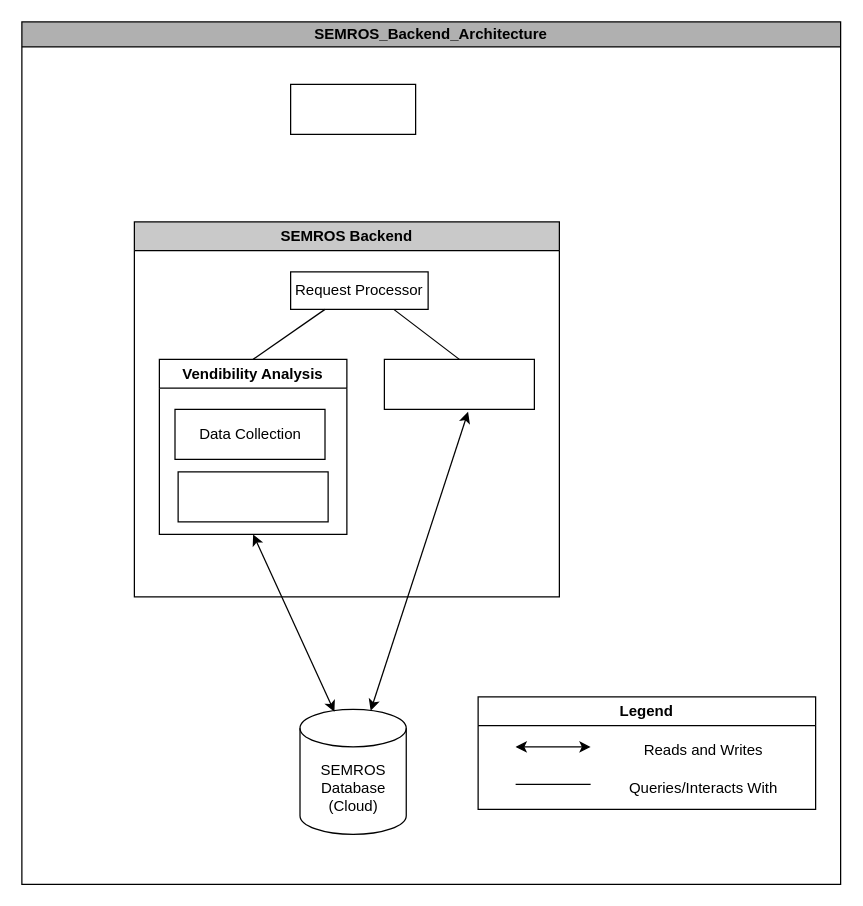
The diagram is 863 pixels wide and 906 high, and some of its shapes have lost their labels. Here are the shapes that lost their labels. From the top down, the centre of each, then its label:
point 352,108: External Client
point 458,383: Session Generation
point 252,496: Data Analysis
